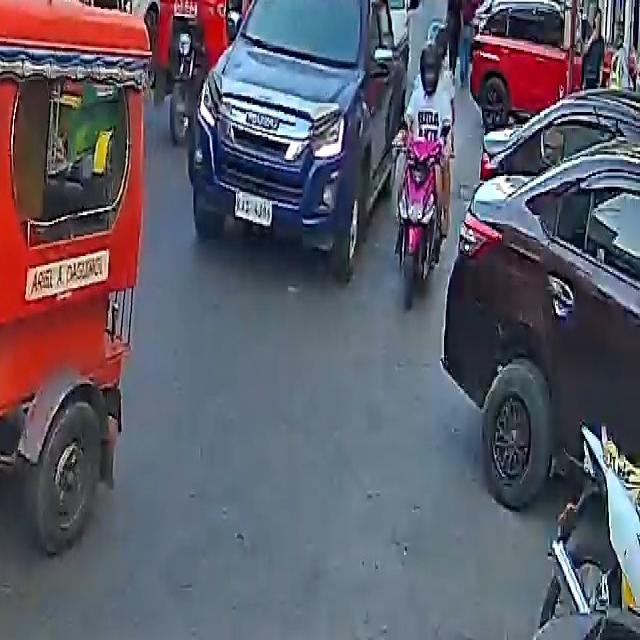car: (443, 112, 640, 523), (186, 0, 406, 267), (468, 0, 602, 124)
